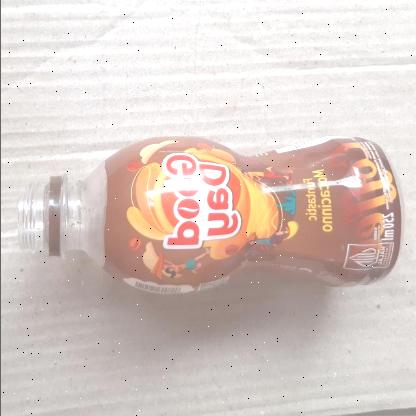Plastic Bottle: (17, 134, 402, 297)
